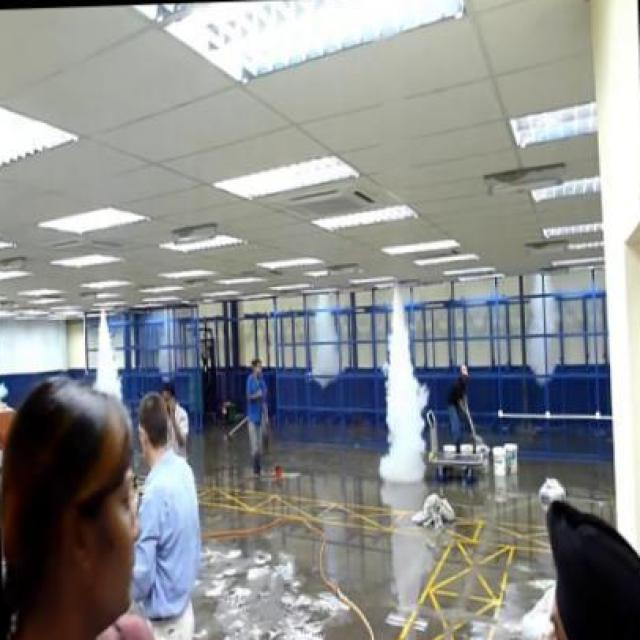fire: (375, 293, 432, 487), (93, 317, 126, 396)
